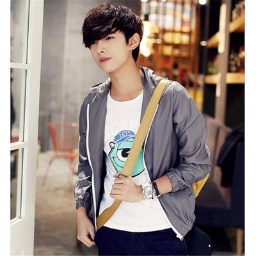face: (83, 3, 143, 75)
